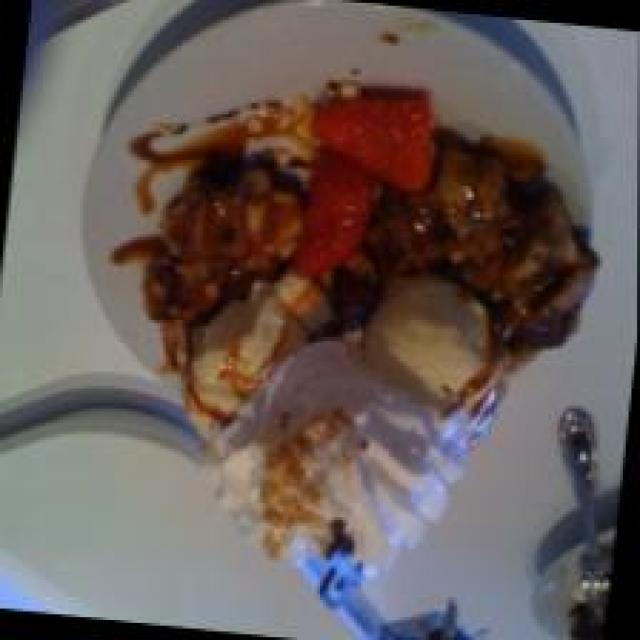Waffles: (123, 107, 614, 444)
